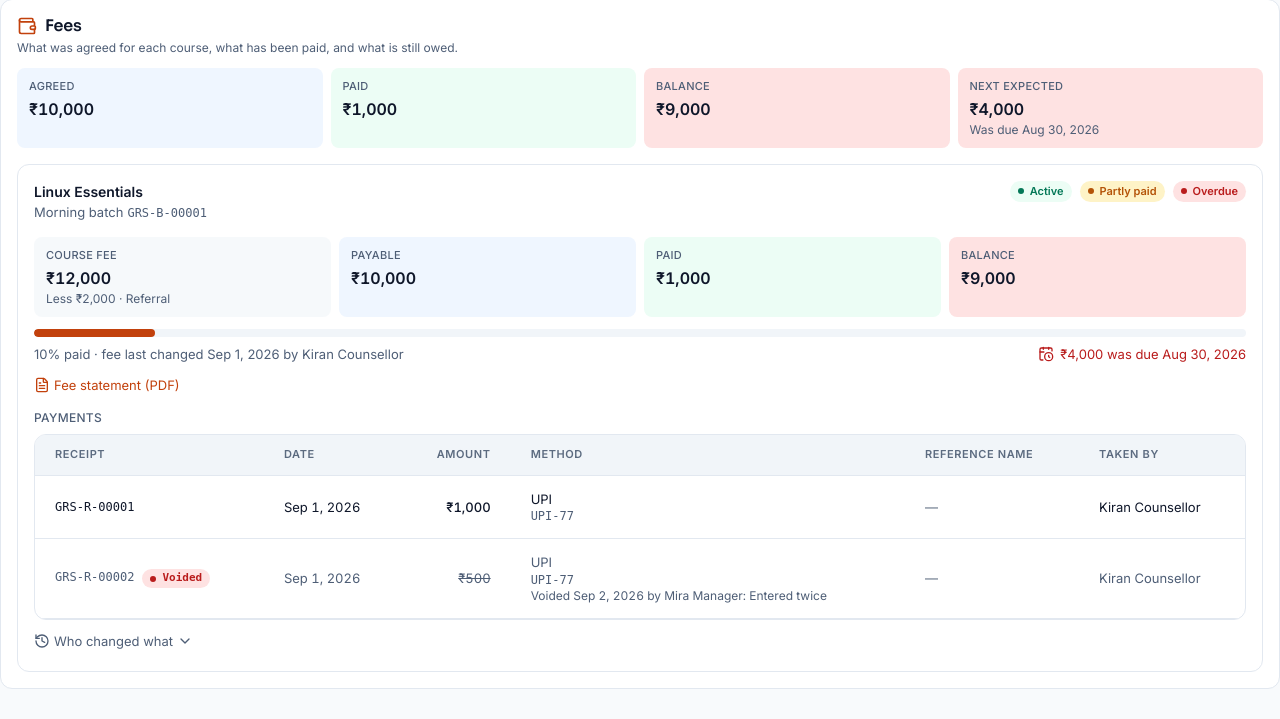
Scenario: FeeLedger › opens the history on demand
Step 1. Click the button "Who changed what" → click(114, 641), box [34,632,193,651]
(page scrolled)
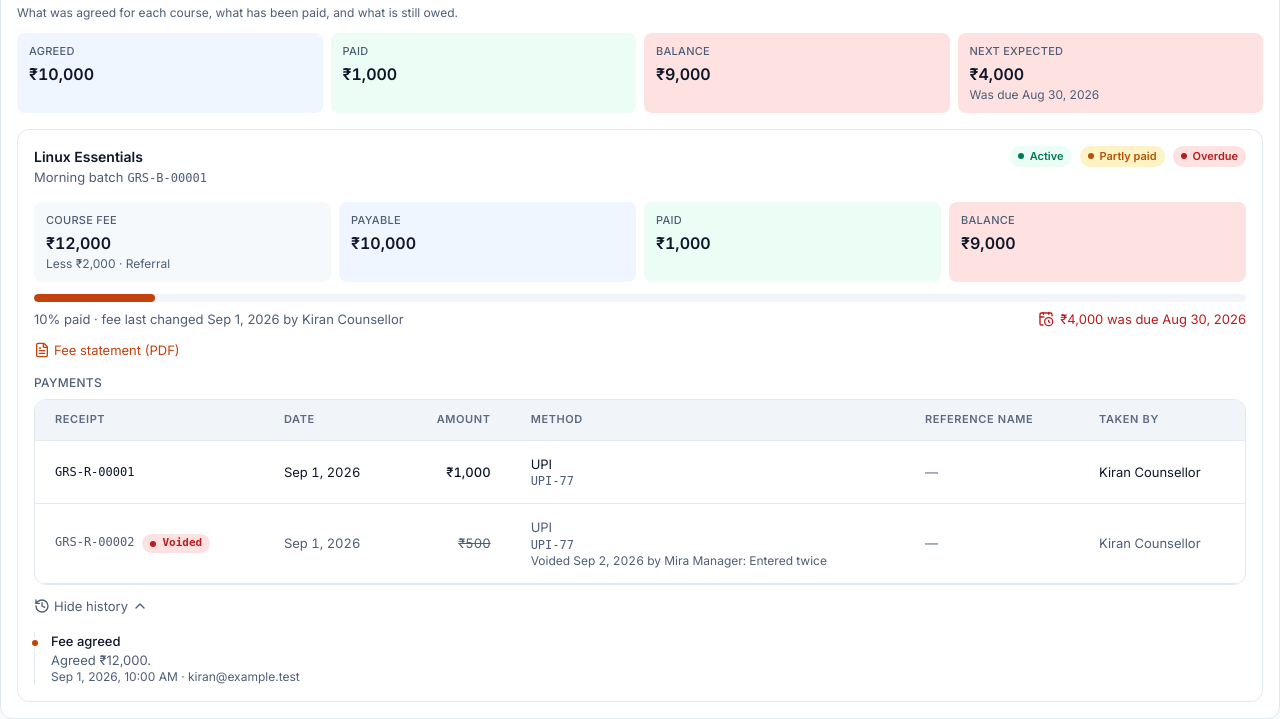
Now the text "Agreed ₹12,000." is shown, box [51,652,151,668]
Now the text "Sep 1, 2026, 10:00 AM · kiran@example.test" is shown, box [51,669,300,684]
